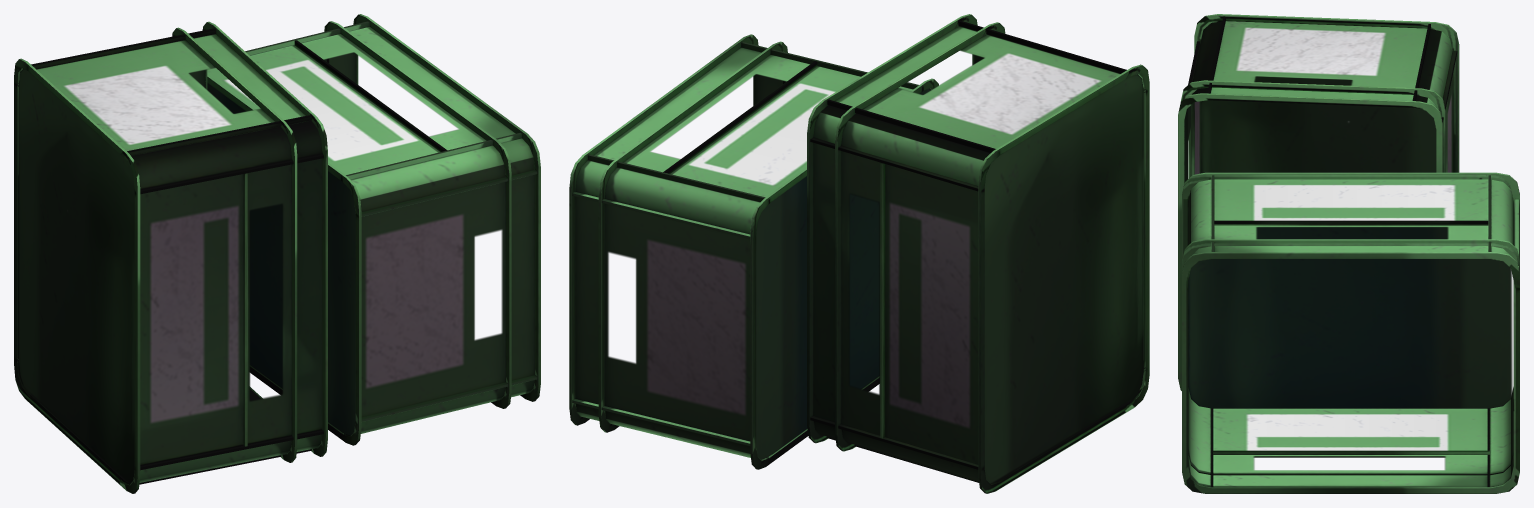
Rendered from CRATES_REBAKE.glb.
The picture shows the model from 3 angles, left to right: view 1: azimuth 30°, elevation 25°; view 2: azimuth 150°, elevation 25°; view 3: azimuth 270°, elevation 25°; orthographic projection. The views are drawn at different scales.
Parts seen in each view (by area): view 1: B_Daily_R_VR_N_JP_Basket_0004, B_Daily_R_VR_N_JP_Basket_0003; view 2: B_Daily_R_VR_N_JP_Basket_0004, B_Daily_R_VR_N_JP_Basket_0003; view 3: B_Daily_R_VR_N_JP_Basket_0003, B_Daily_R_VR_N_JP_Basket_0004.
Part boxes in pixels (<box>): B_Daily_R_VR_N_JP_Basket_0004: <box>14,21,327,493</box>; B_Daily_R_VR_N_JP_Basket_0003: <box>207,14,540,445</box>; B_Daily_R_VR_N_JP_Basket_0004: <box>807,14,1149,493</box>; B_Daily_R_VR_N_JP_Basket_0003: <box>569,34,938,469</box>; B_Daily_R_VR_N_JP_Basket_0003: <box>1182,172,1519,493</box>; B_Daily_R_VR_N_JP_Basket_0004: <box>1178,14,1459,390</box>.
Size of the model in its own units: 0.6904 by 0.5611 by 0.5678.
Materials: 2 (2 with a texture image).
